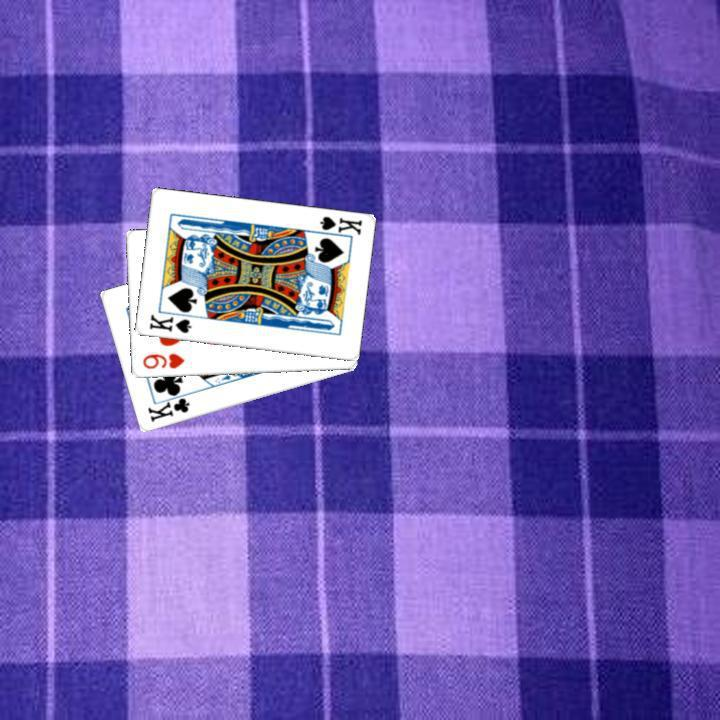9: (138, 349, 186, 371)
K: (143, 388, 193, 424), (310, 212, 363, 241), (144, 310, 193, 336)
